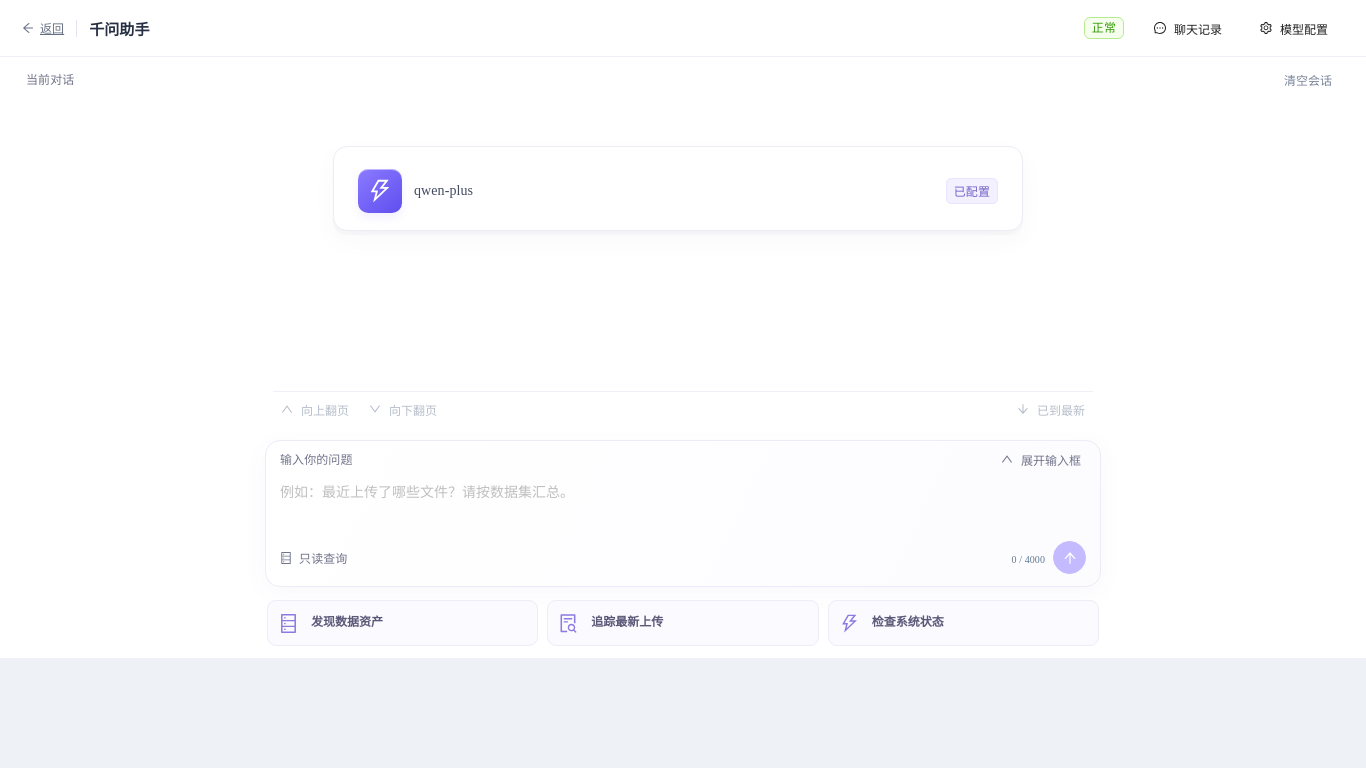
Warehouse AI interface › waits until Chinese input composition finishes before showing suggestions
This screenshot has width=1366, height=768.
Type "系统状态" into the text box named "输入问题" at coordinates (683, 504), box [280, 479, 1086, 529]
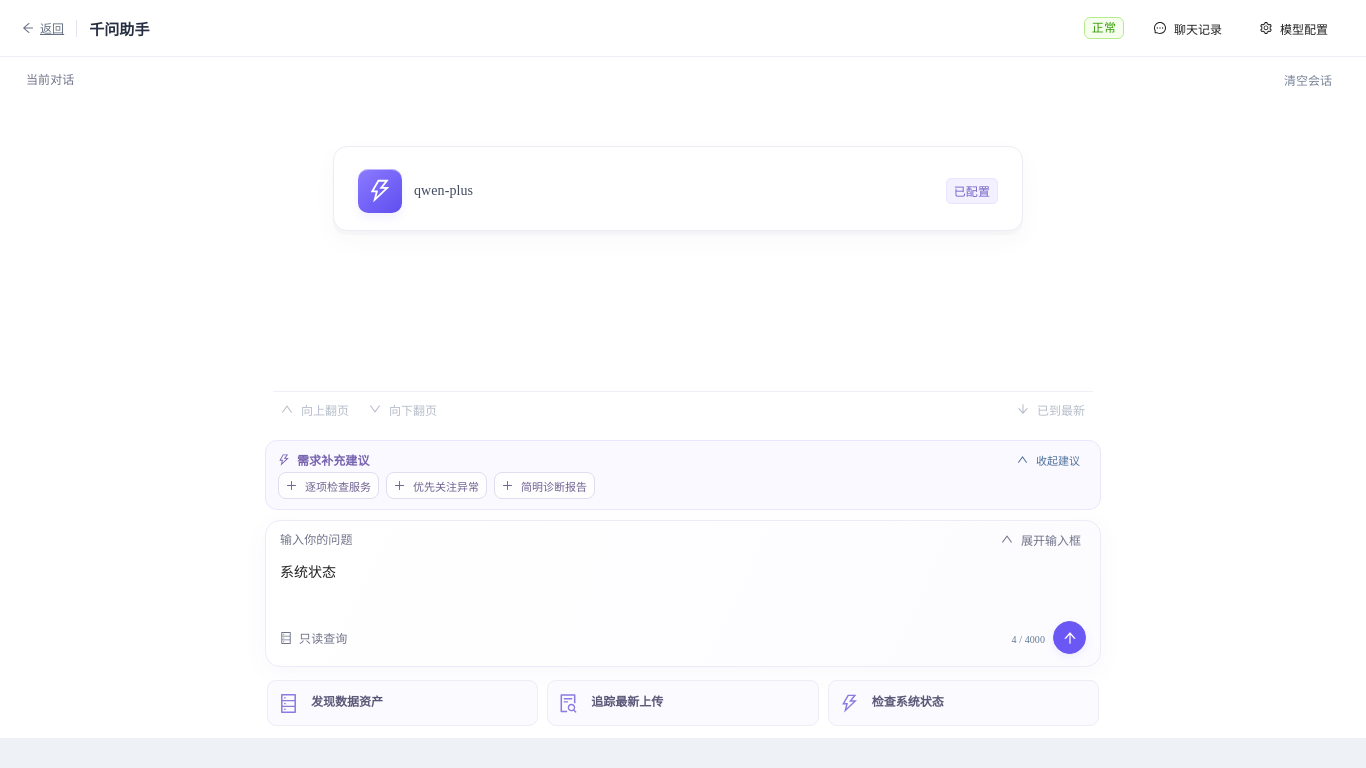
Expected: the element "需求补充建议" is shown, [265, 440, 1101, 510]
